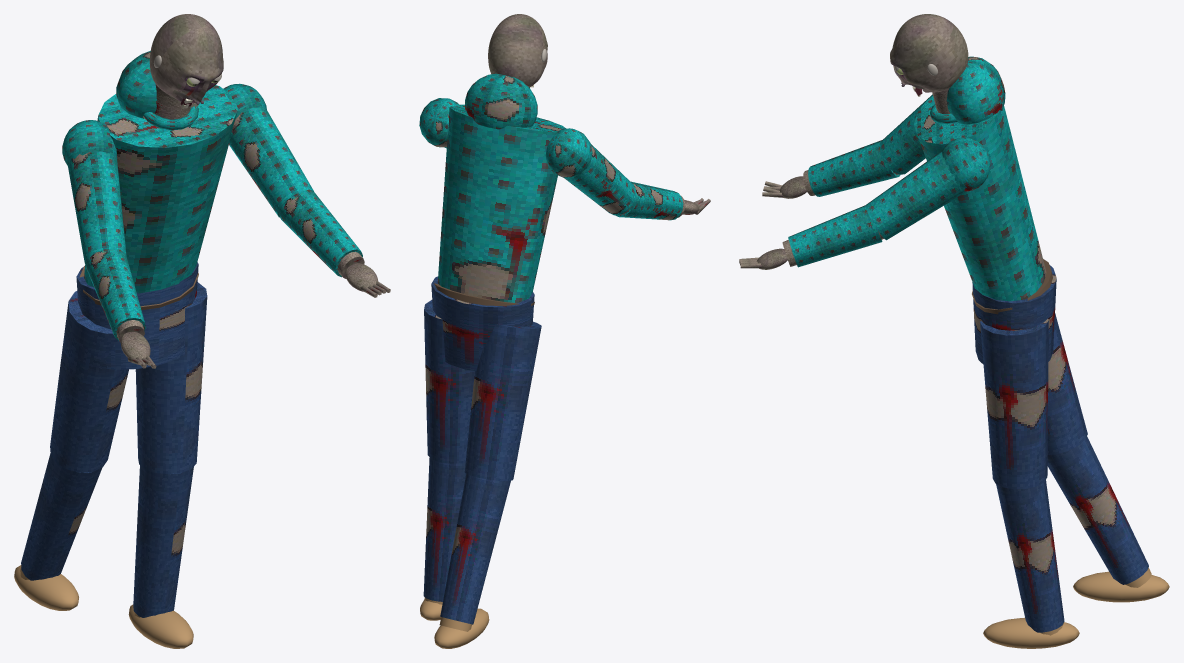
Rendered from Zombie_082.glb.
3 renders of one model, left to right at view 1: azimuth 30°, elevation 25°; view 2: azimuth 150°, elevation 25°; view 3: azimuth 270°, elevation 25°, orthographic. The views are drawn at different scales.
Visible parts, largest first — view 1: Zombie_082, object 18, object 12, object 4, object 5, object 13; view 2: Zombie_082, object 18, object 4; view 3: Zombie_082, object 18, object 12, object 4.
Part boxes in pixels (bbox=[...]): Zombie_082: bbox=[14, 51, 313, 648]; object 18: bbox=[149, 14, 223, 102]; object 12: bbox=[278, 189, 362, 277]; object 4: bbox=[85, 248, 145, 340]; object 5: bbox=[120, 332, 150, 358]; object 13: bbox=[345, 263, 377, 291]; Zombie_082: bbox=[419, 73, 635, 648]; object 18: bbox=[488, 14, 547, 86]; object 4: bbox=[615, 181, 683, 220]; Zombie_082: bbox=[865, 56, 1169, 648]; object 18: bbox=[890, 14, 968, 92]; object 12: bbox=[788, 205, 882, 267]; object 4: bbox=[808, 140, 900, 196].
Bounding box in the file's own units: 0.6691 × 1.78 × 1.12.
Materials: 15 (5 with a texture image).
